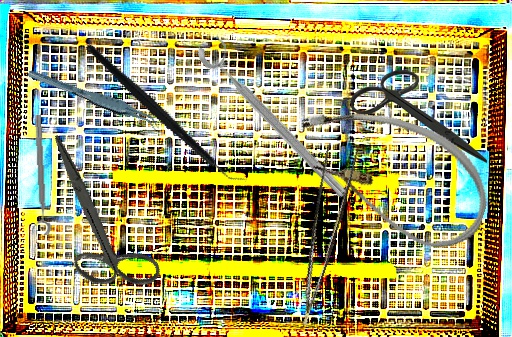Cannula: (276, 89, 505, 261)
Chopper: (84, 8, 249, 219)
Fixation Ring: (193, 31, 360, 203), (24, 114, 52, 236)
Iris Scissors: (0, 134, 194, 311), (351, 69, 487, 164)
Tissue Forceps: (273, 137, 365, 327), (26, 55, 163, 143)
